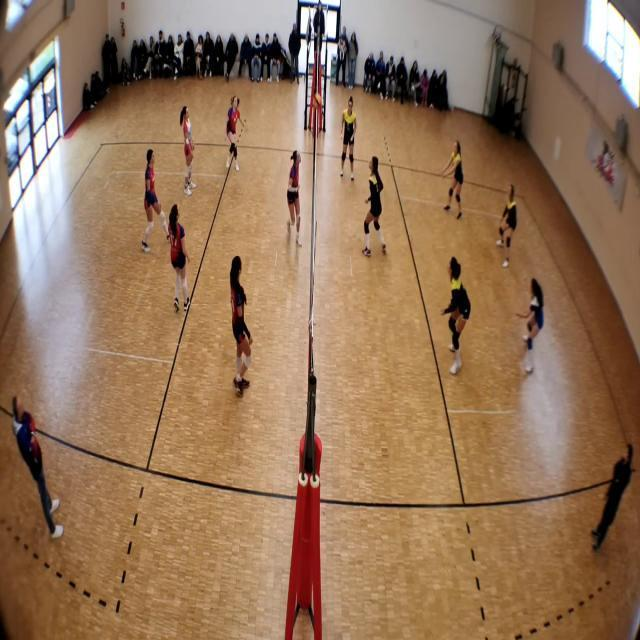volleyball: (312, 94, 322, 110)
